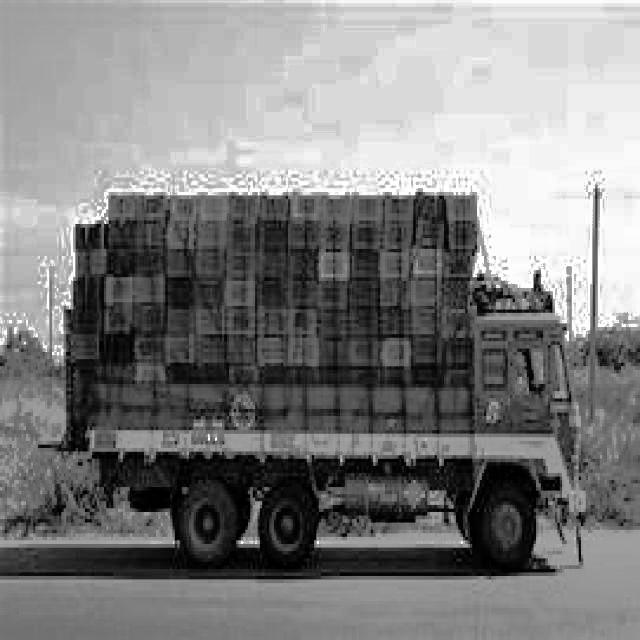HCV: (48, 161, 620, 605)
